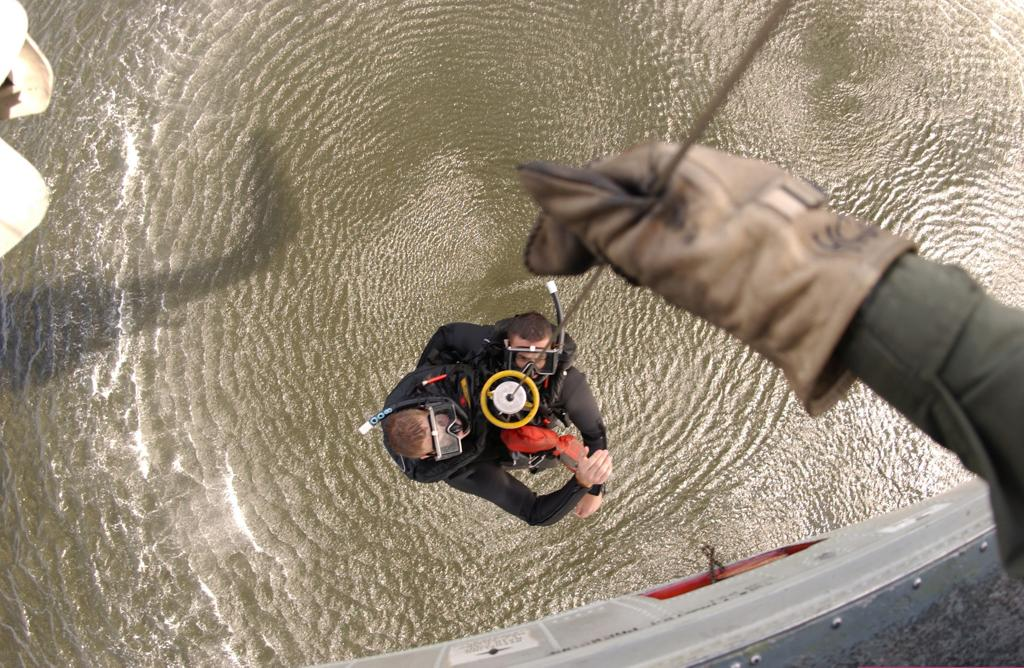face: (511, 334, 550, 378), (422, 415, 464, 453)
